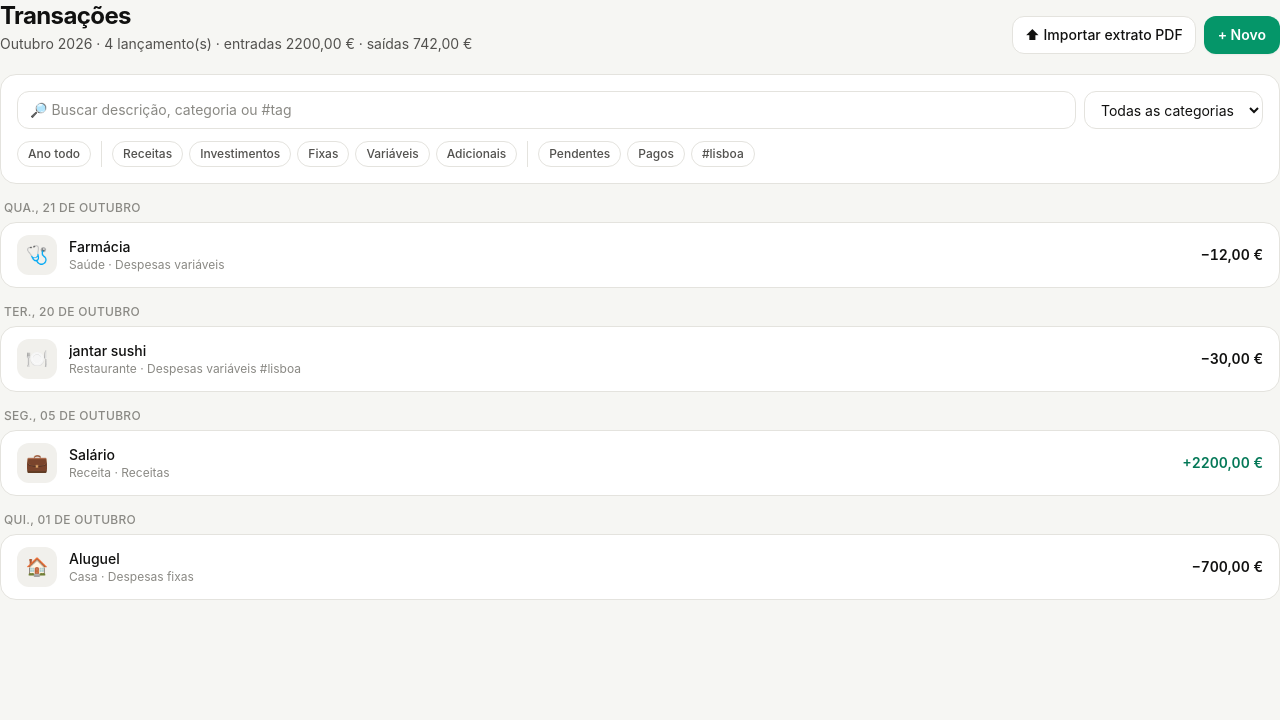
Scenario: Transações › editing (side panel) › a cleared description falls back to "(sem descrição)"
Click the text "Farmácia" at (100, 246), box 69,238 -> 130,255
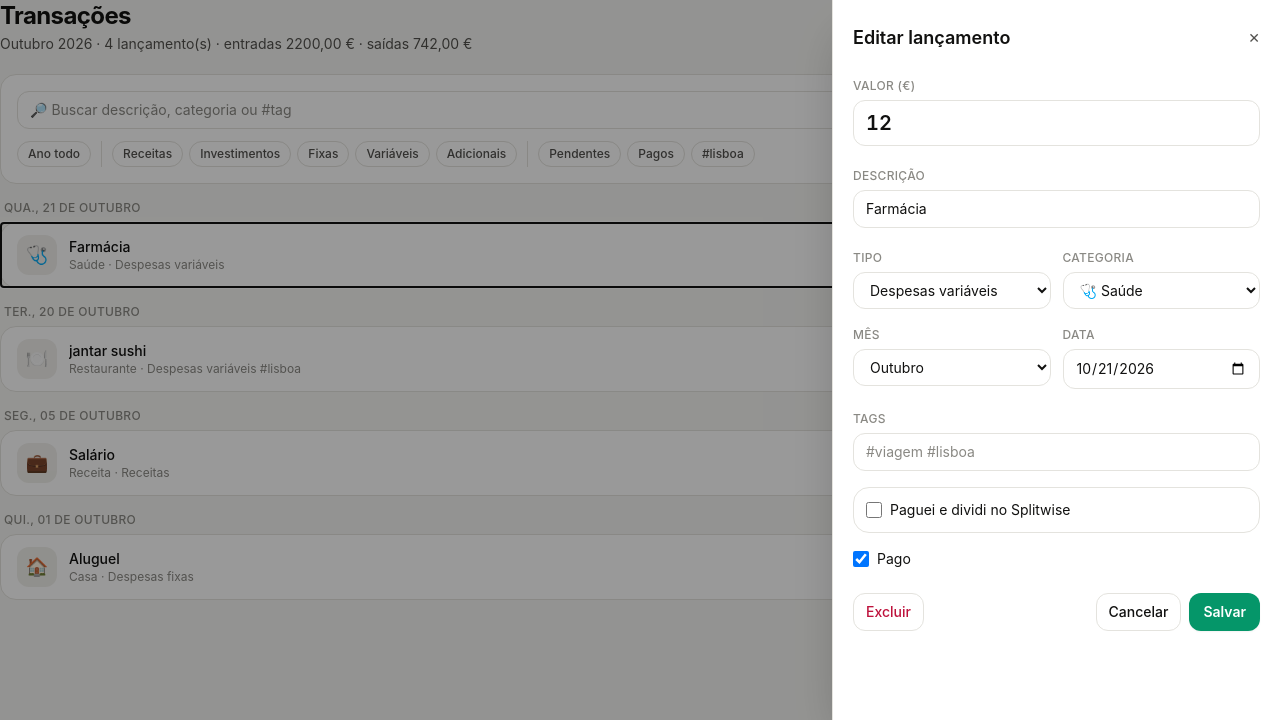
Clear the field showing "Farmácia" at (1056, 209), box 853,190 -> 1260,228
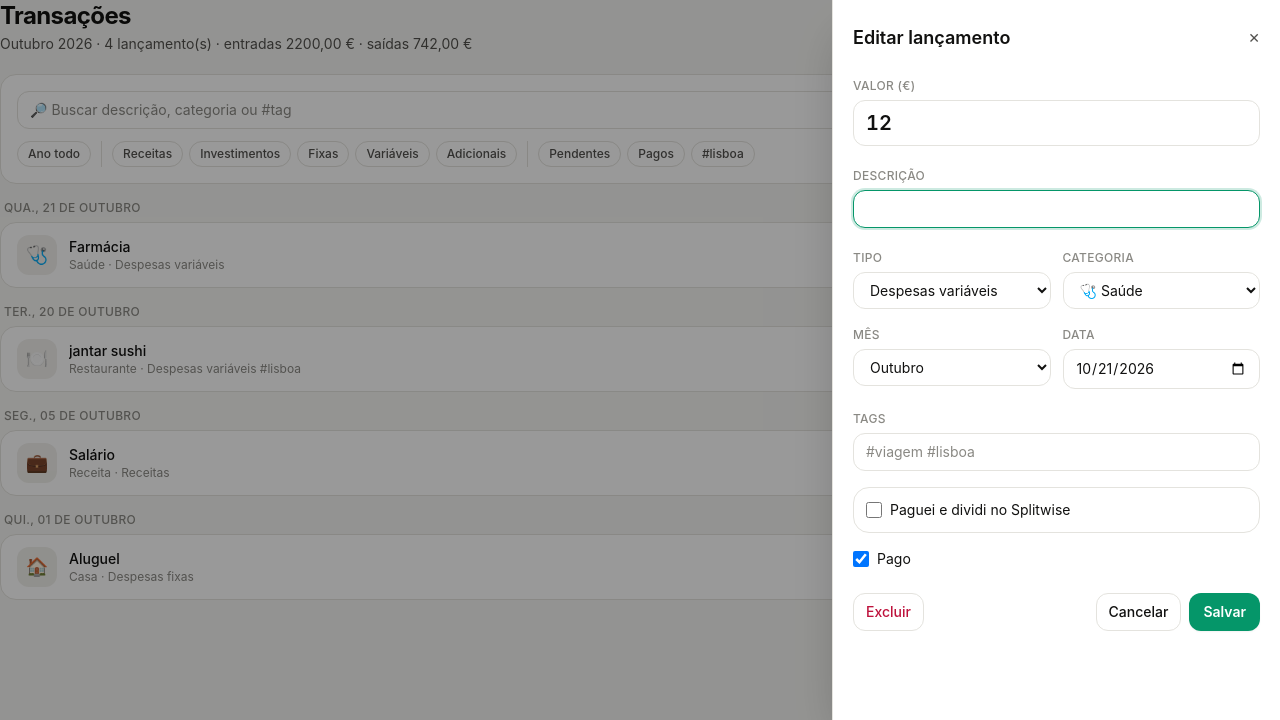
Click the button "Salvar" at (1225, 612), box 1189,593 -> 1260,631
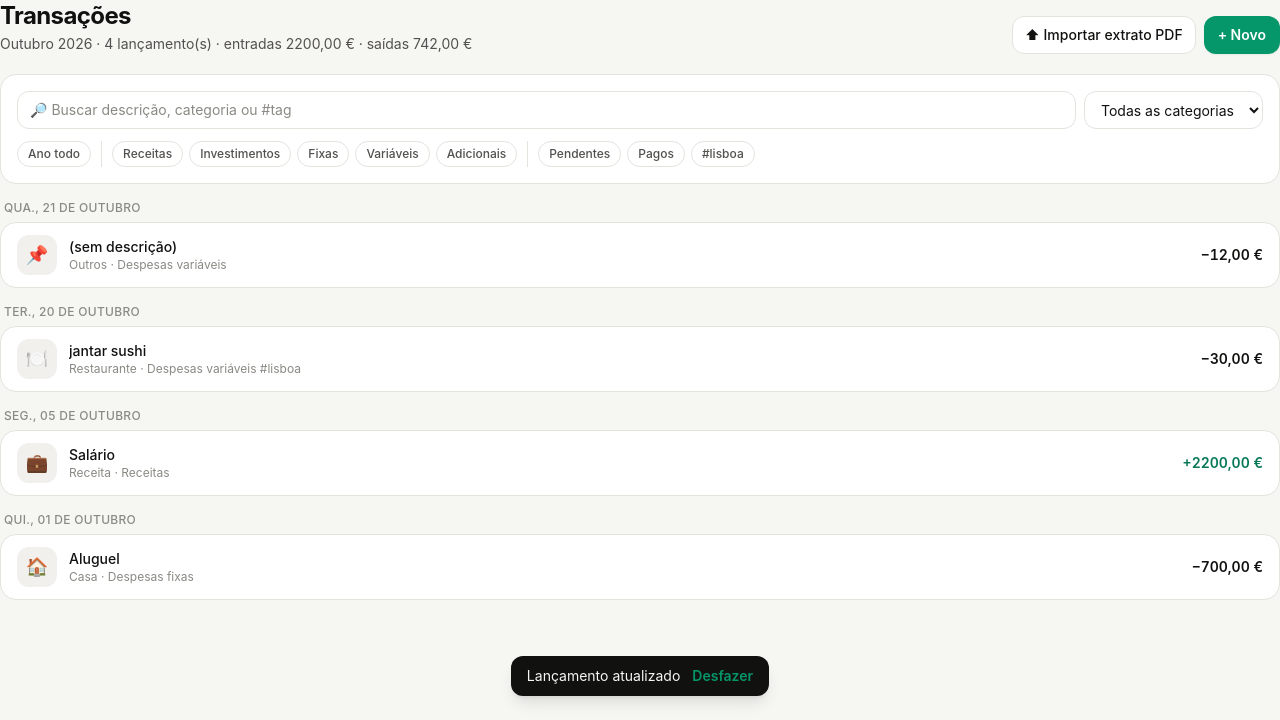
Now the text "Farmácia" reads "(sem descrição)", box 69,238 -> 177,255
